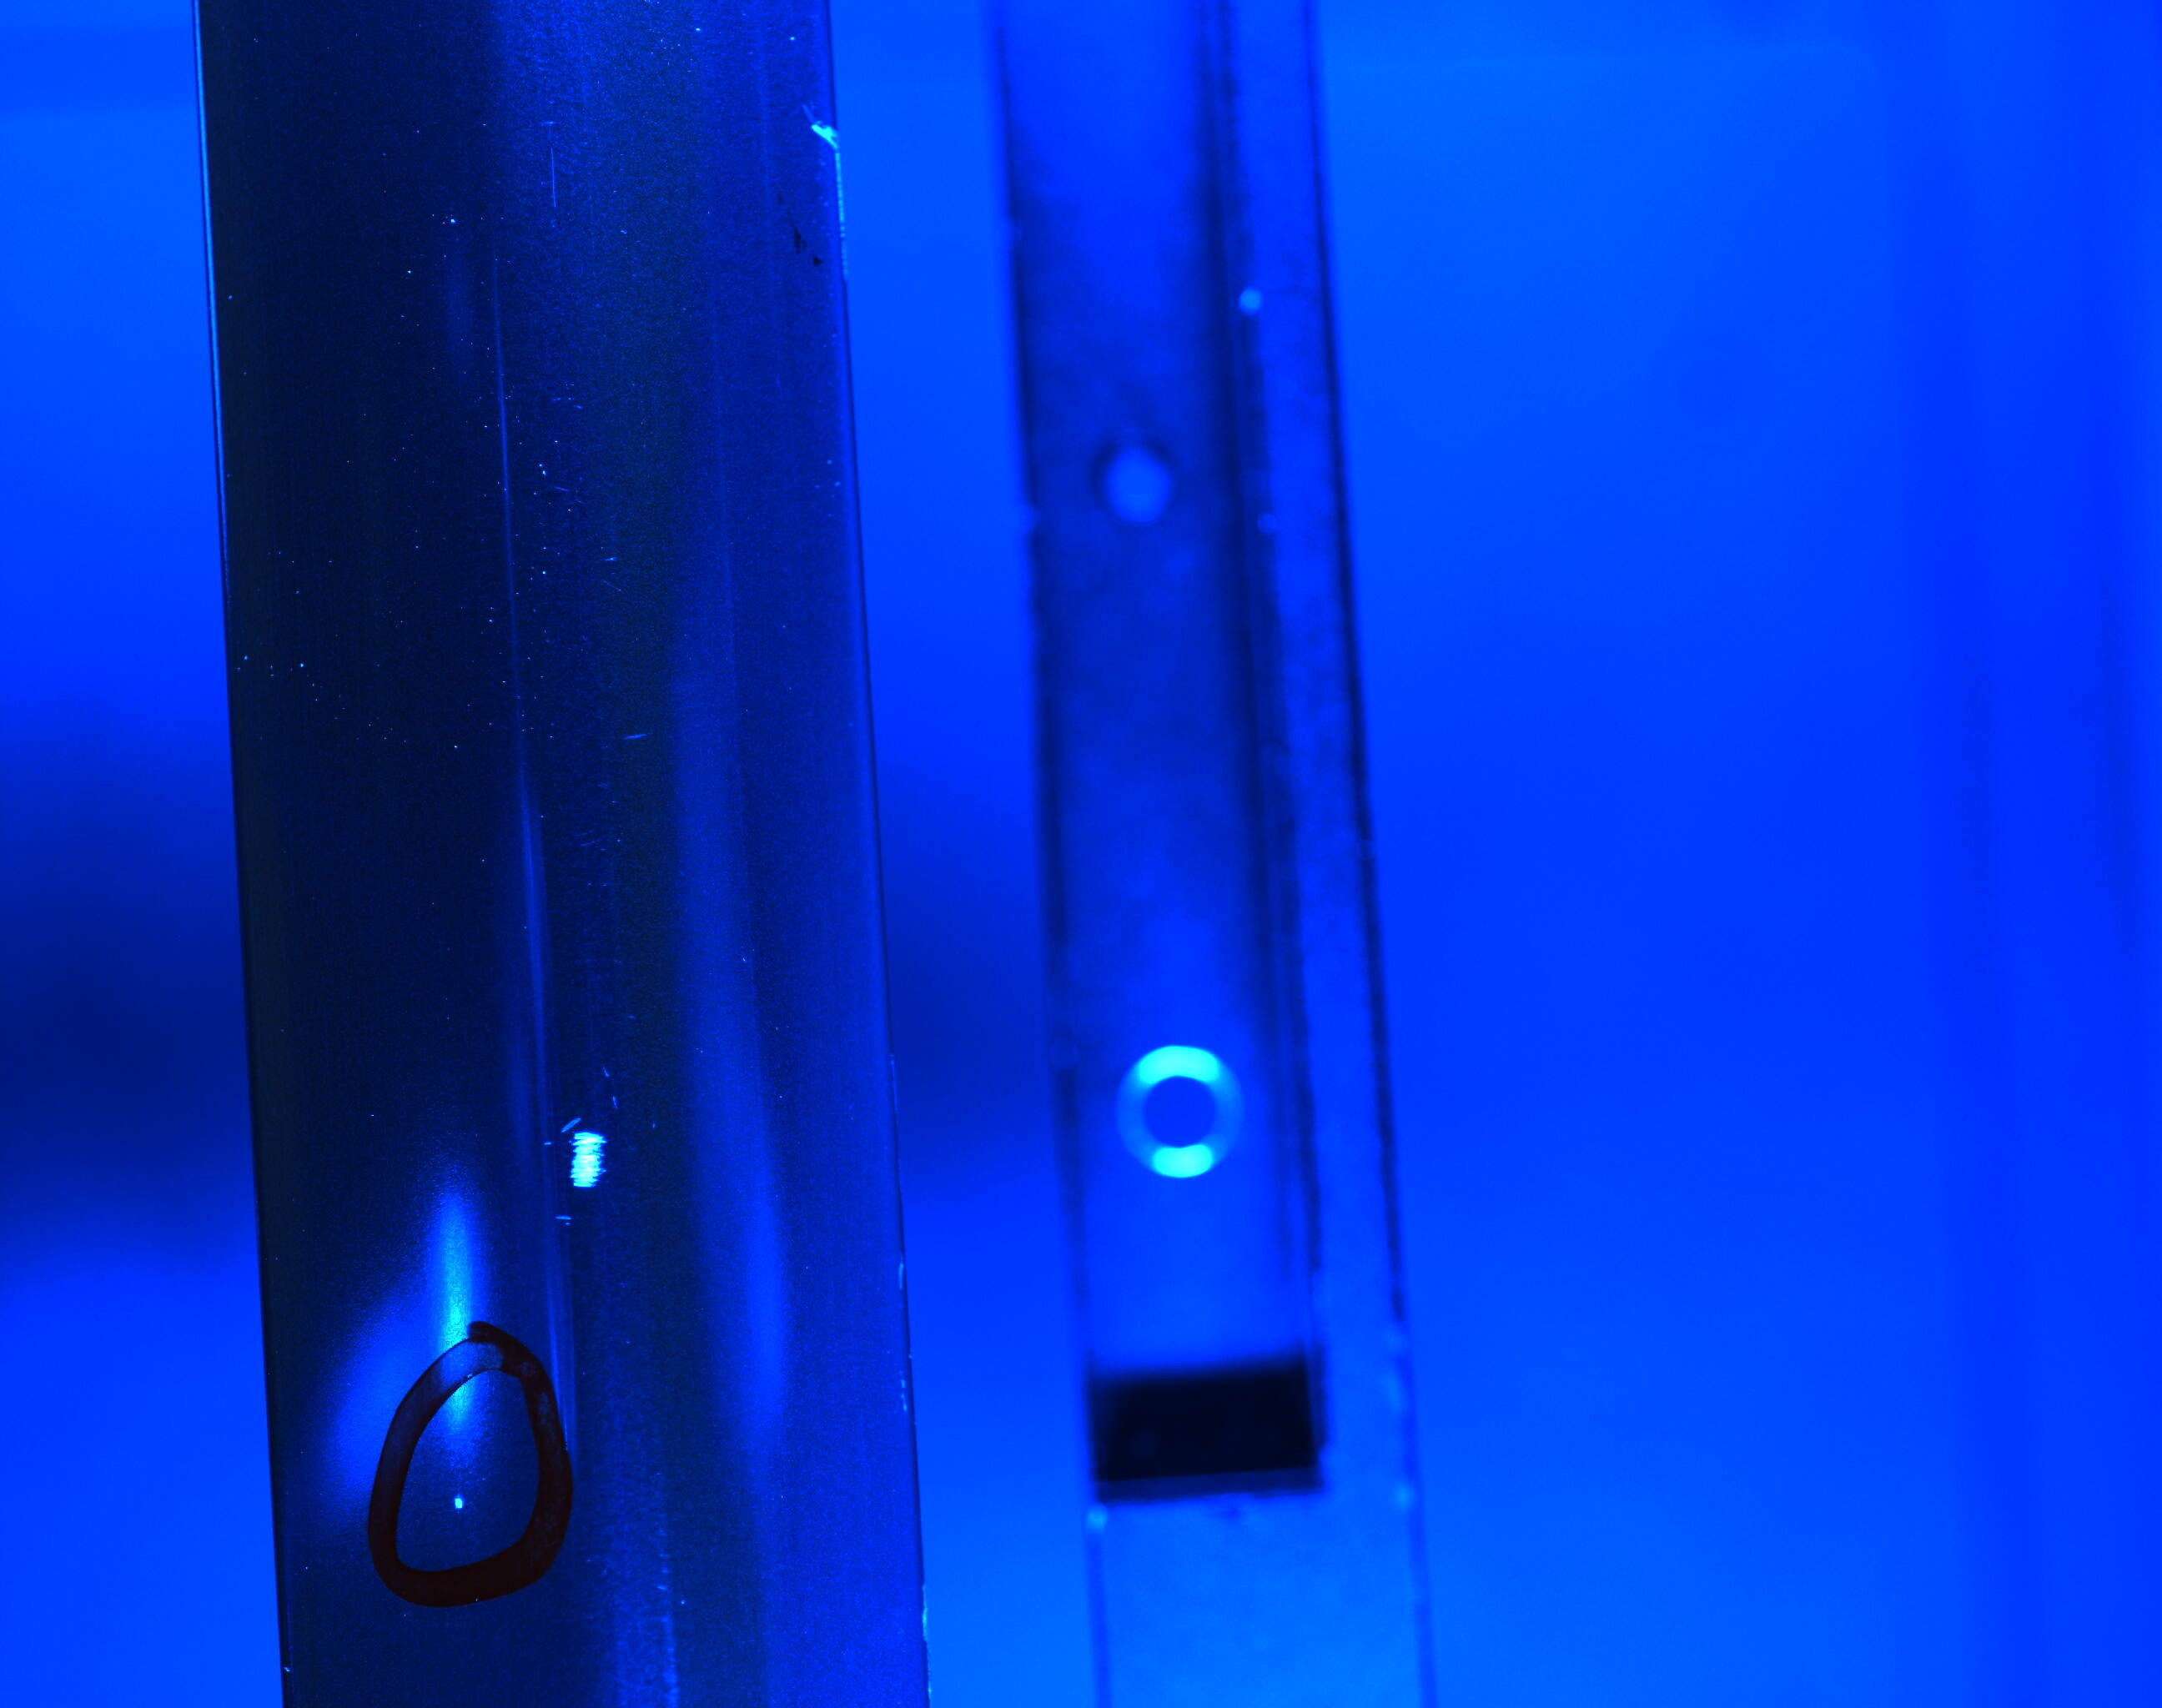NG: (546, 1095, 628, 1241), (790, 95, 856, 269), (435, 1482, 491, 1532)
